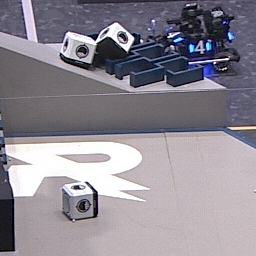Blue: (163, 26, 185, 43), (188, 41, 212, 54)
Robot: (139, 7, 240, 71)
